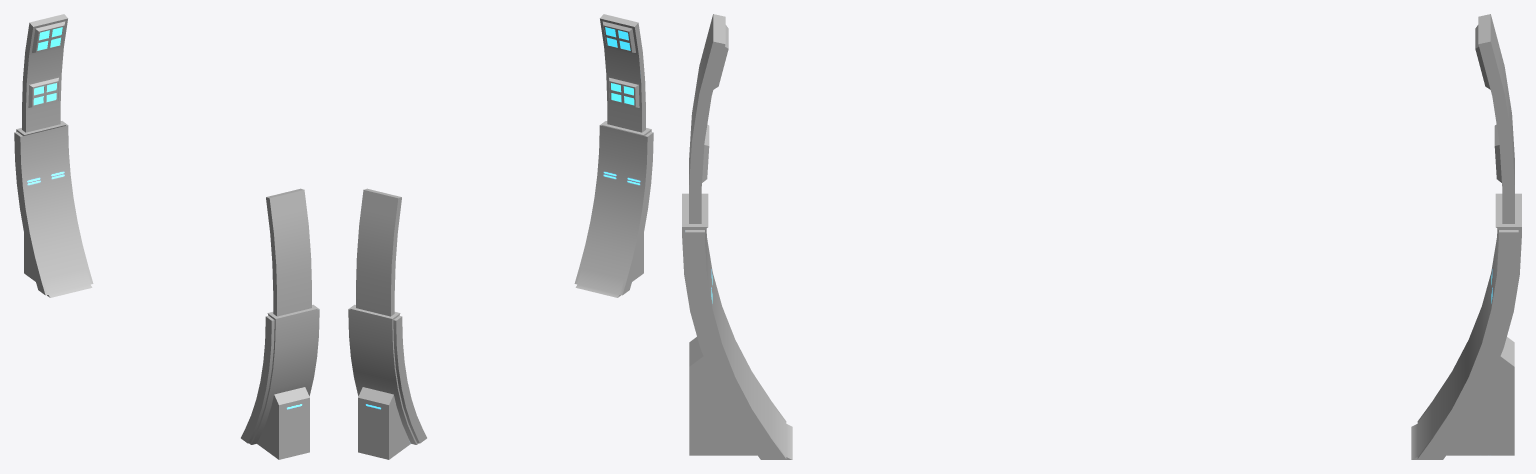
File: SM_TunnelB1.fbx
3 renders of one model, left to right at view 1: azimuth 30°, elevation 25°; view 2: azimuth 150°, elevation 25°; view 3: azimuth 270°, elevation 25°, orthographic. The views are drawn at different scales.
Parts seen in each view (by area): view 1: SM_TunnelB1_LOD0; view 2: SM_TunnelB1_LOD0; view 3: SM_TunnelB1_LOD0.
Part boxes in pixels (x1,y1,x2,y2): SM_TunnelB1_LOD0: (14,14,319,459); SM_TunnelB1_LOD0: (348,14,653,459); SM_TunnelB1_LOD0: (682,14,1521,459).
Bounding box in the file's own units: 227 × 2128 × 1162.
